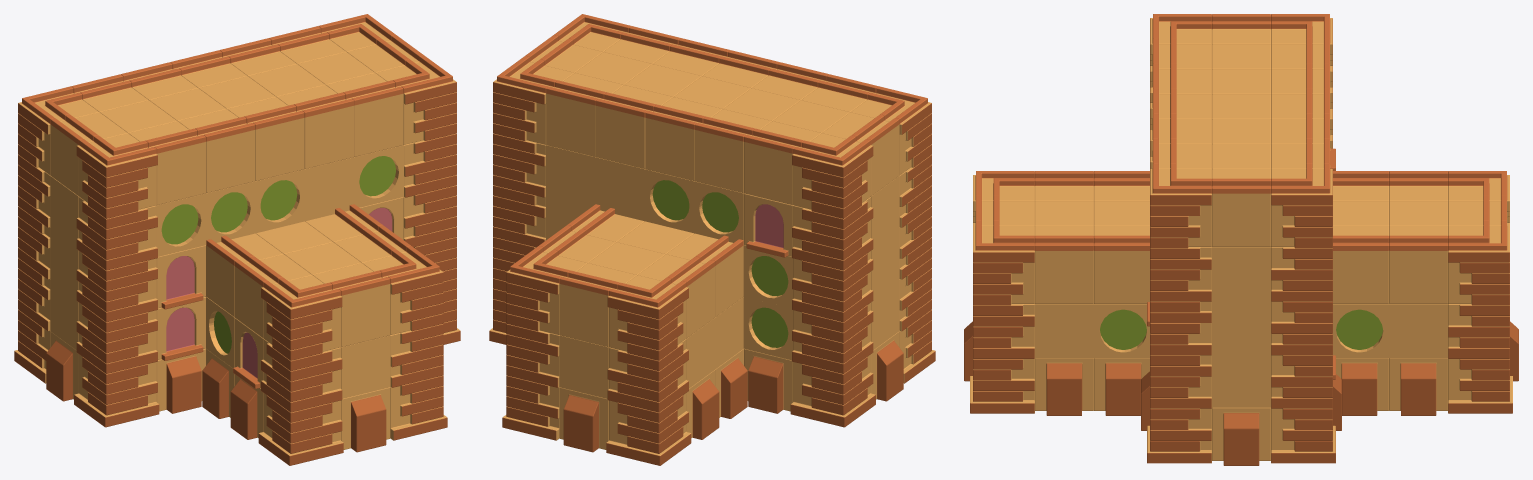
The model's file is house v3.015.fbx.
The picture shows the model from 3 angles, left to right: view 1: azimuth 30°, elevation 25°; view 2: azimuth 150°, elevation 25°; view 3: azimuth 270°, elevation 25°; orthographic projection. The views are drawn at different scales.
Parts seen in each view (by area): view 1: House; view 2: House; view 3: House.
Part boxes in pixels (box(x1,y1,x2,y2)): House: box(14, 14, 460, 465); House: box(489, 14, 935, 465); House: box(964, 14, 1518, 465).
Size of the model in its own units: 740 by 510 by 940.
